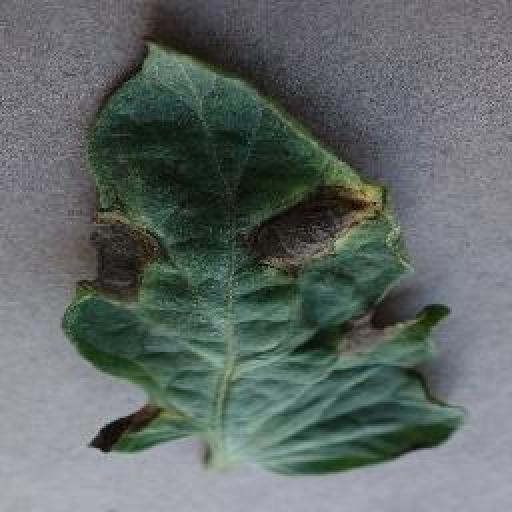Early Blight: (63, 39, 471, 477)
